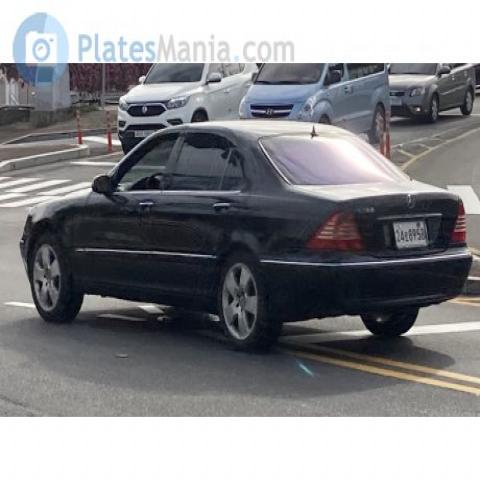LP: (386, 212, 440, 258)
